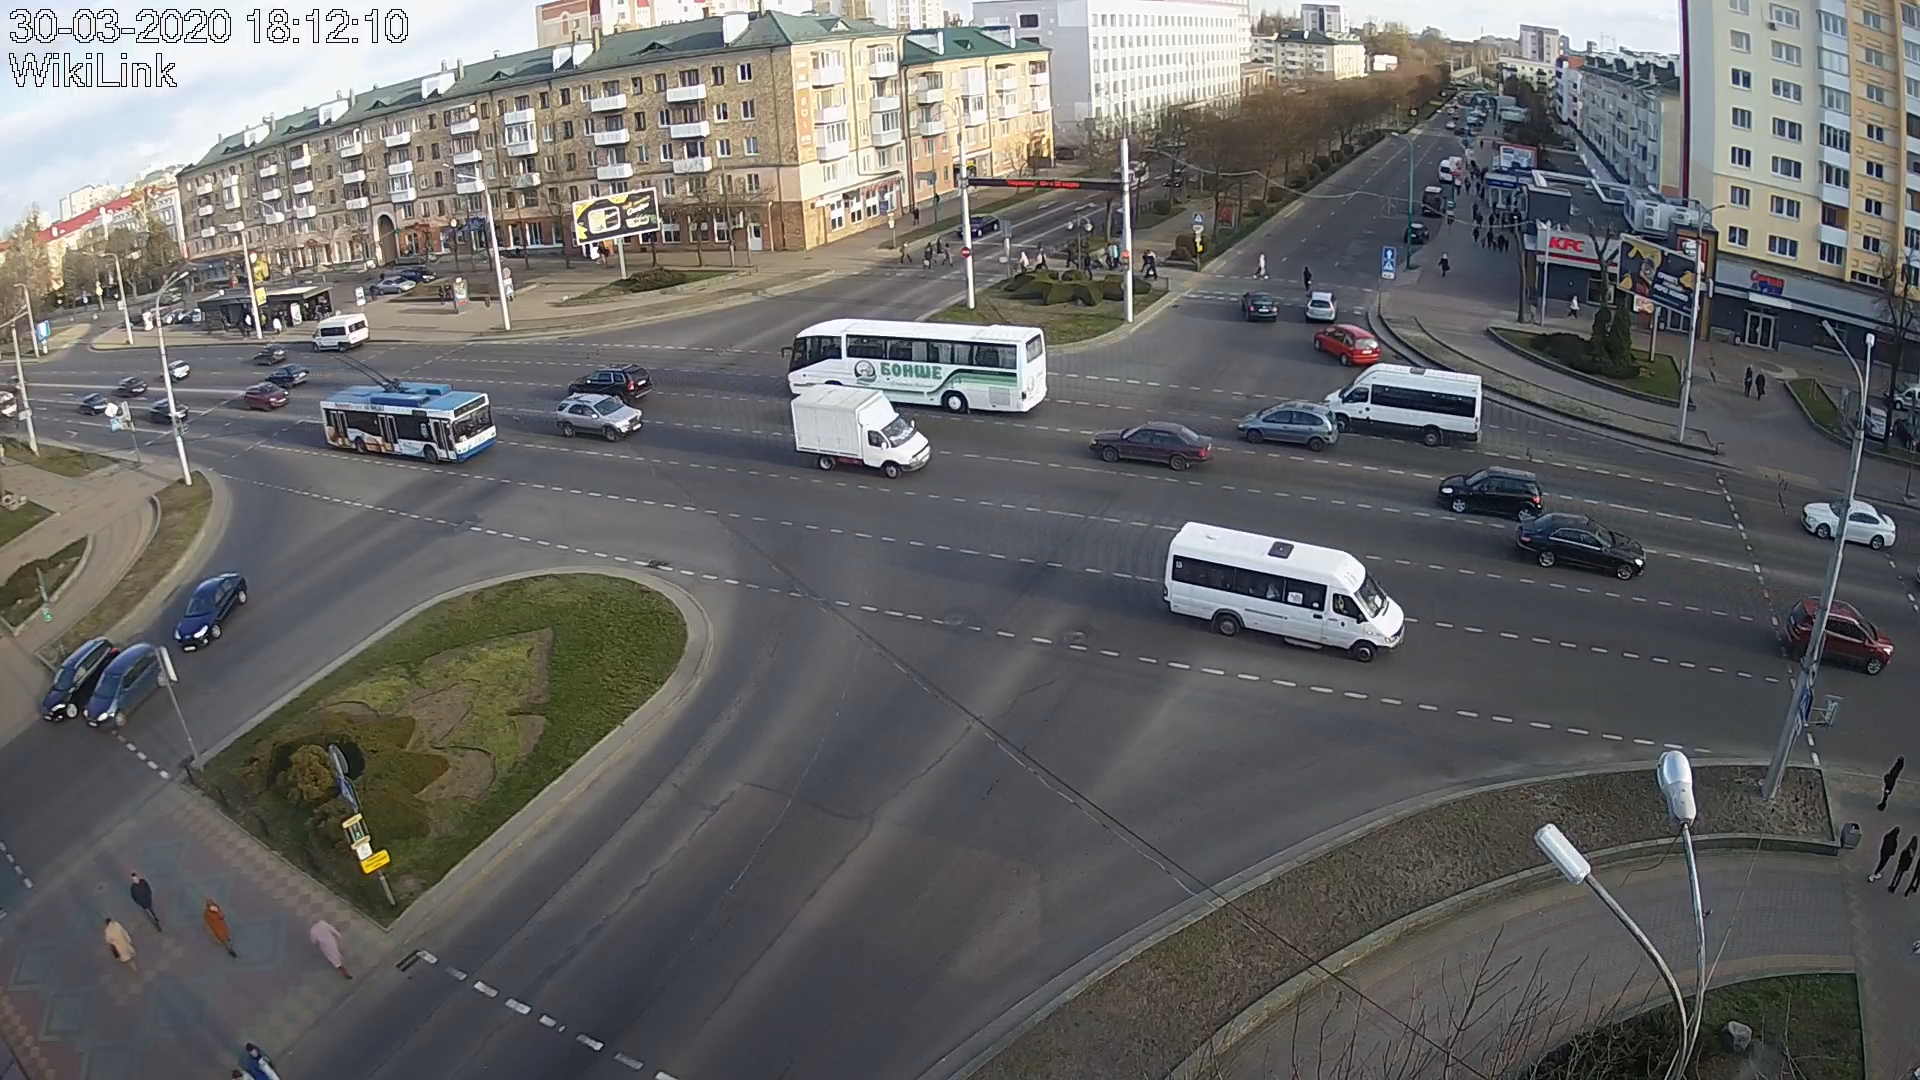bus: (782, 319, 1048, 413), (320, 385, 498, 465)
car: (1164, 521, 1406, 665), (1320, 363, 1484, 447), (790, 382, 932, 479), (1516, 512, 1646, 582), (1784, 595, 1894, 676), (83, 640, 165, 729), (41, 636, 117, 723), (1089, 419, 1215, 472), (1437, 465, 1544, 524), (174, 571, 248, 653), (1236, 400, 1338, 454), (1801, 496, 1898, 551), (556, 392, 644, 444), (568, 363, 653, 404), (1313, 322, 1381, 368), (311, 313, 371, 353), (243, 381, 289, 411), (955, 212, 1000, 240), (148, 397, 190, 425), (1241, 290, 1279, 320), (264, 363, 313, 386), (1305, 290, 1337, 324)
